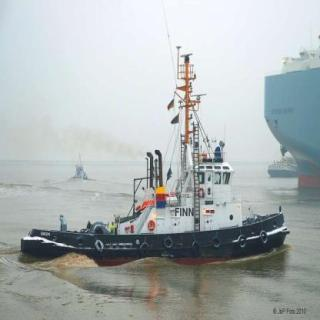Tug Boat: (36, 77, 286, 260)
